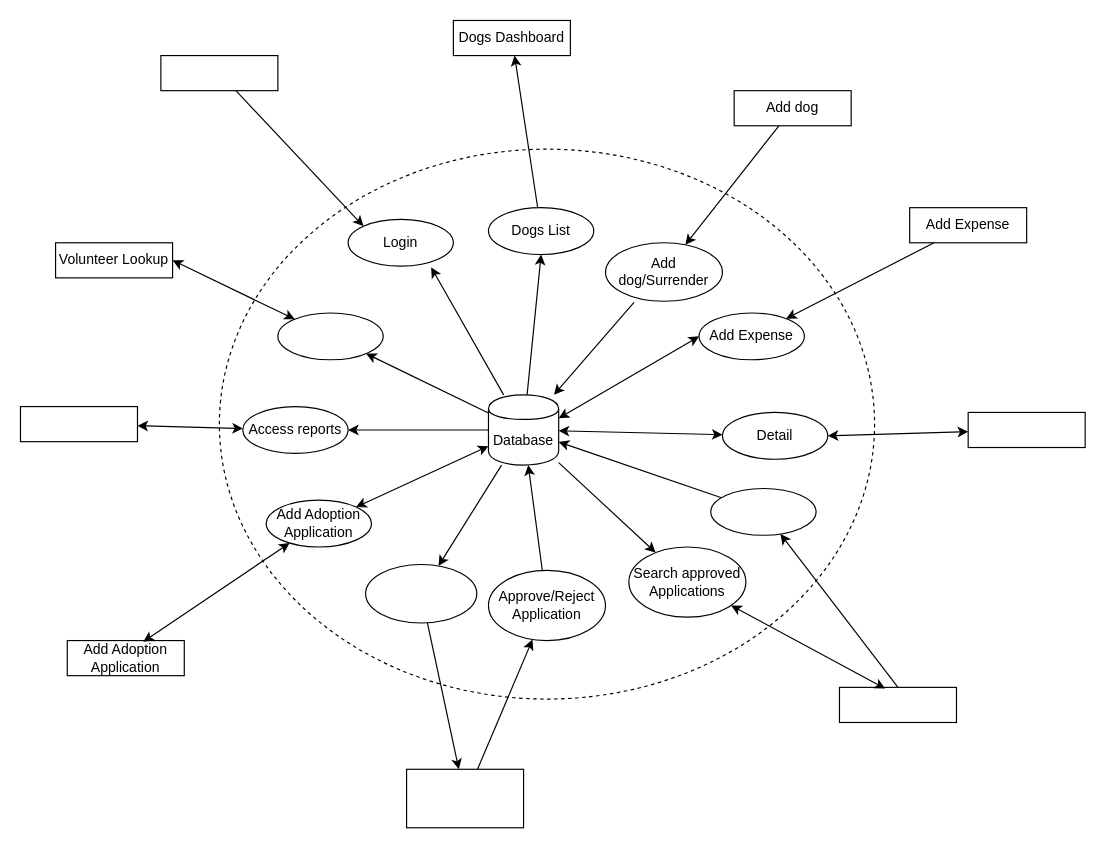
Image size: 1106x848. Some labels were removed from this diagram. Here are the shapes that lost their labels. From the top down, the centre of each, then its label:
point 219,72: Login Form
point 330,336: Search Volunteers
point 78,423: Reports
point 1026,429: Dog Detail
point 763,511: Add Adoption
point 420,593: List Pending Applications
point 897,704: Adoption
point 464,798: Adoption Application Review
